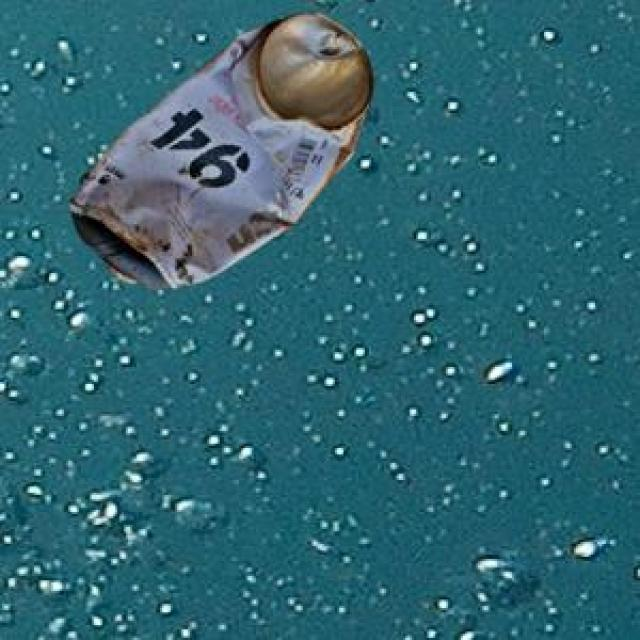logam: (67, 10, 370, 285)
